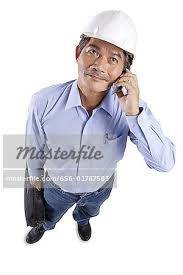Person_wearing_helmet: (66, 4, 144, 60)
